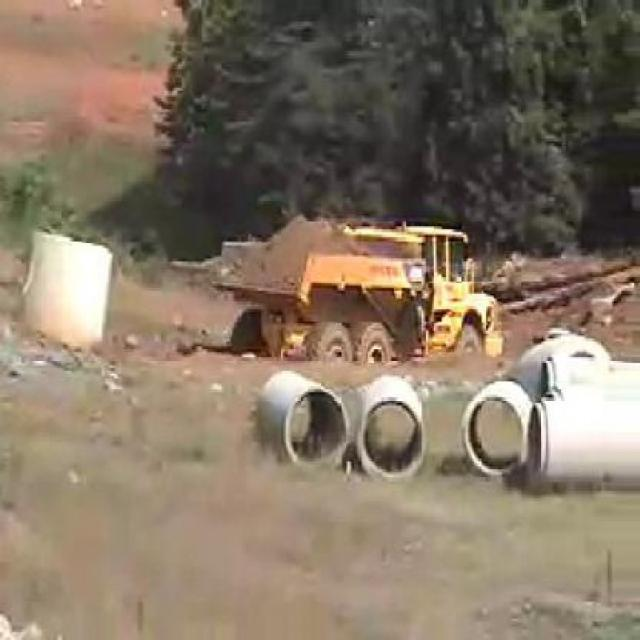Dump Truck: (212, 184, 510, 373)
